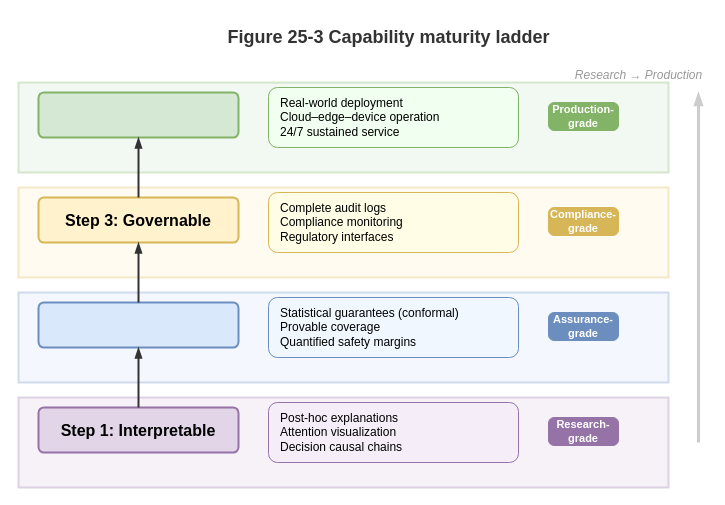
This 725x505 diagram has some shape labels left out. Each missing label, with the centre of its shape:
Step 2: Certifiable: pixel 138 324
Step 4: Deployable: pixel 138 114
